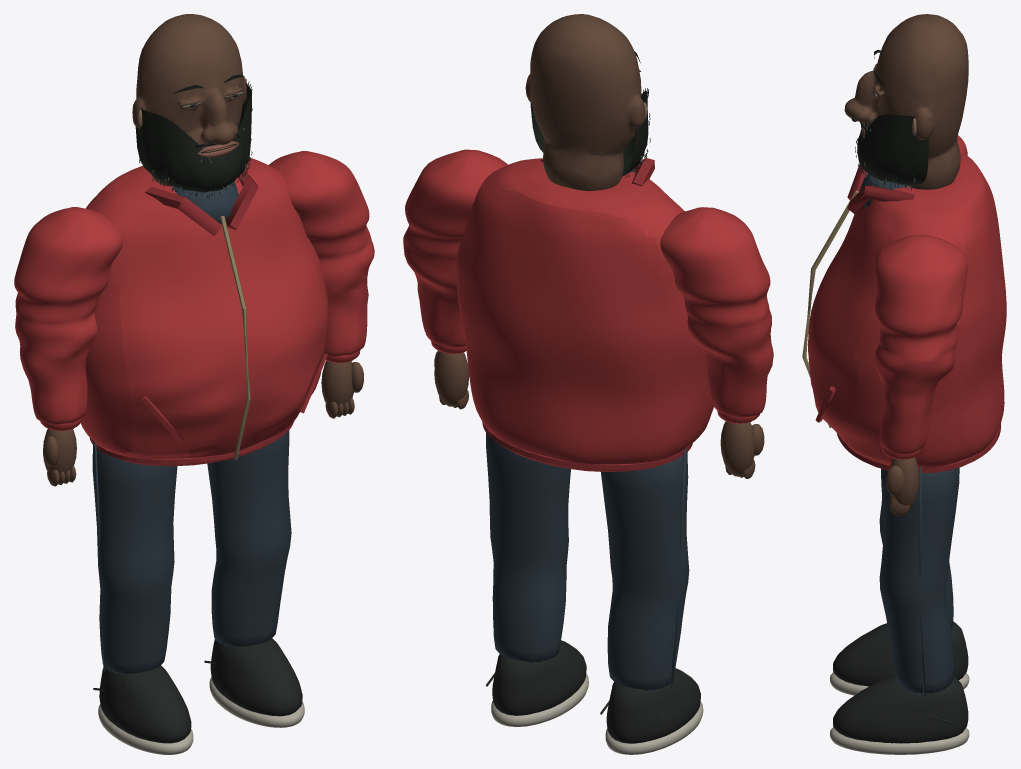
File: npc-proportions.glb
3 views of the same model, side by side, from view 1: azimuth 30°, elevation 25°; view 2: azimuth 150°, elevation 25°; view 3: azimuth 270°, elevation 25° (orthographic). The views are drawn at different scales.
Visible parts, largest first — view 1: NPC_Mesh, LeftArm.001, Head.001, LeftLeg.001, RightLeg.001, RightArm.001, Shoe.003, Shoe.001; view 2: NPC_Mesh, LeftArm.001, Head.001, LeftLeg.001, RightLeg.001, RightArm.001, Shoe.003, Shoe.001; view 3: NPC_Mesh, RightArm.001, Head.001, RightLeg.001, Shoe.003, Shoe.001, LeftLeg.001.
Part boxes in pixels (x1,y1,x2,y2): NPC_Mesh: [81, 158, 328, 466]; LeftArm.001: [14, 207, 123, 486]; Head.001: [132, 14, 252, 198]; LeftLeg.001: [92, 441, 177, 674]; RightLeg.001: [207, 430, 291, 647]; RightArm.001: [269, 151, 374, 418]; Shoe.003: [204, 638, 304, 727]; Shoe.001: [93, 665, 193, 754]; NPC_Mesh: [456, 158, 713, 471]; LeftArm.001: [660, 207, 773, 478]; Head.001: [525, 14, 650, 190]; LeftLeg.001: [601, 448, 689, 690]; RightLeg.001: [486, 433, 570, 662]; RightArm.001: [403, 149, 507, 409]; Shoe.003: [486, 640, 588, 726]; Shoe.001: [600, 668, 703, 754]; NPC_Mesh: [802, 152, 1006, 473]; RightArm.001: [874, 234, 967, 515]; Head.001: [844, 14, 968, 190]; RightLeg.001: [879, 467, 959, 696]; Shoe.003: [830, 675, 969, 754]; Shoe.001: [830, 621, 969, 695]; LeftLeg.001: [879, 498, 953, 628].
Size of the model in its own units: 1.06 by 2.01 by 0.5348.
